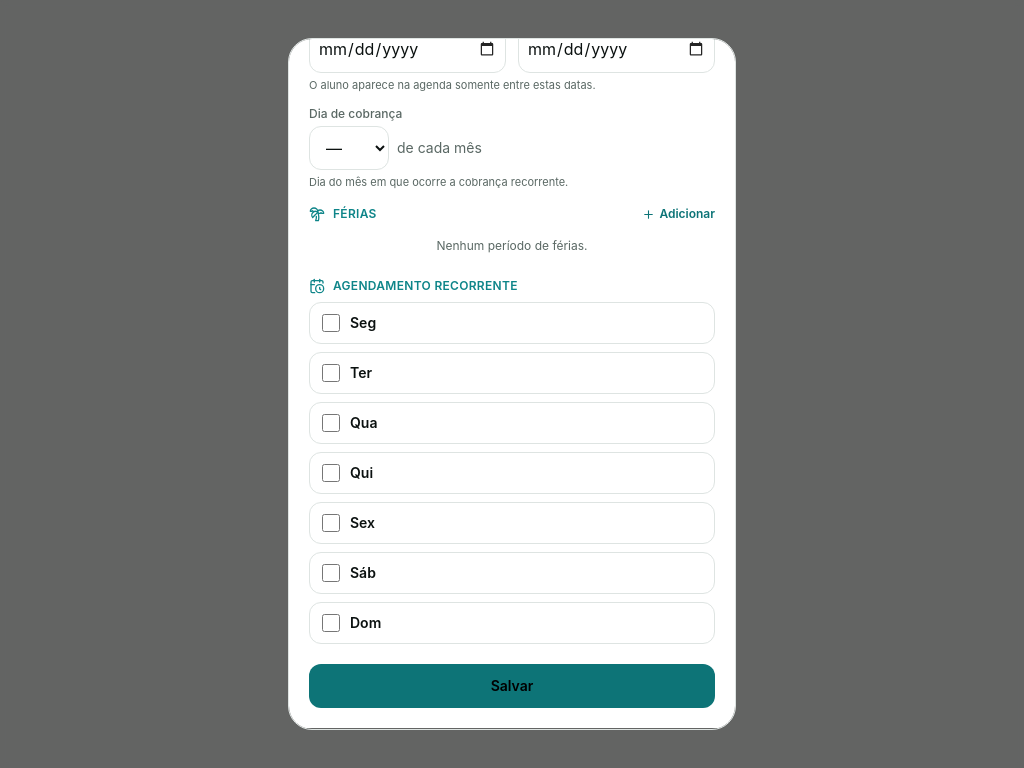
Test: AlunoFormModal — integração entre a UI e o callback onSave › nome vazio bloqueia a submissão e exibe a mensagem de validação existente
The width and height of the screenshot is (1024, 768).
(page scrolled)
Click the button "Salvar". click: click(512, 686)
box: [309, 664, 715, 708]
(page scrolled)
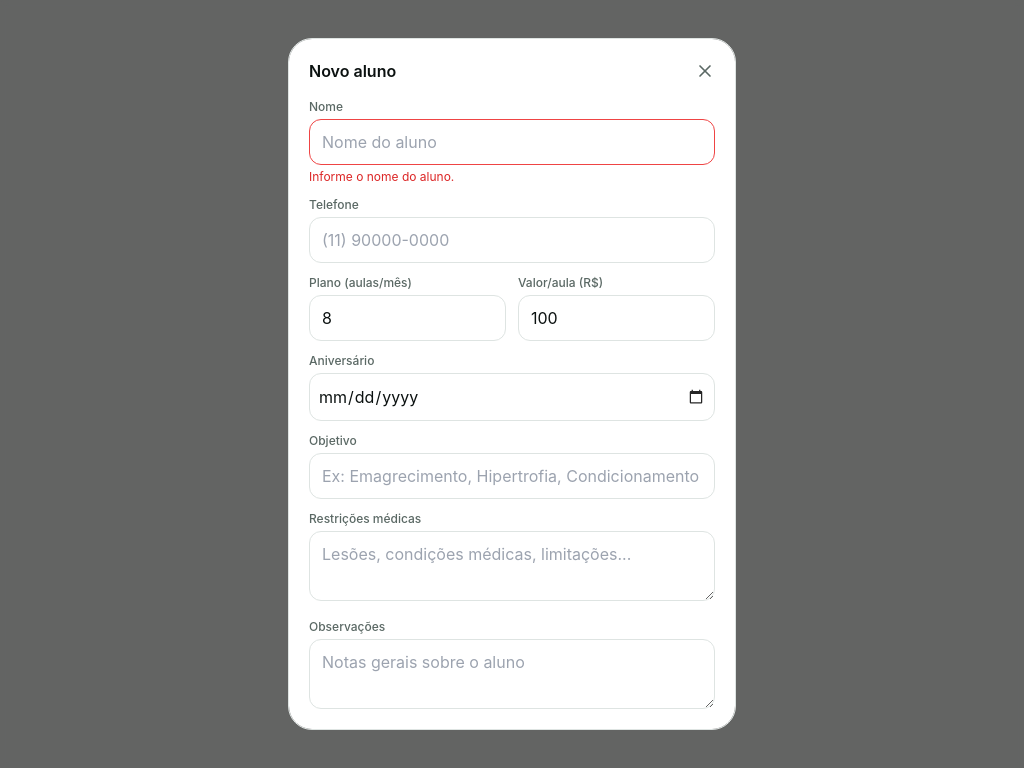
Expected: the text "Informe o nome do aluno." is shown, [309, 169, 454, 184]
